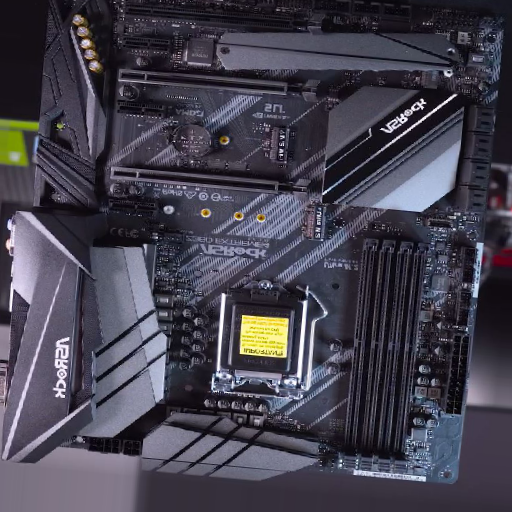CPU: (208, 277, 312, 397)
GPU: (116, 66, 320, 106), (109, 165, 311, 201), (117, 3, 324, 37)
MOTHERBOARD: (16, 3, 504, 490)
RAM: (338, 233, 430, 478)
SSD: (266, 124, 291, 167), (302, 201, 329, 237)
